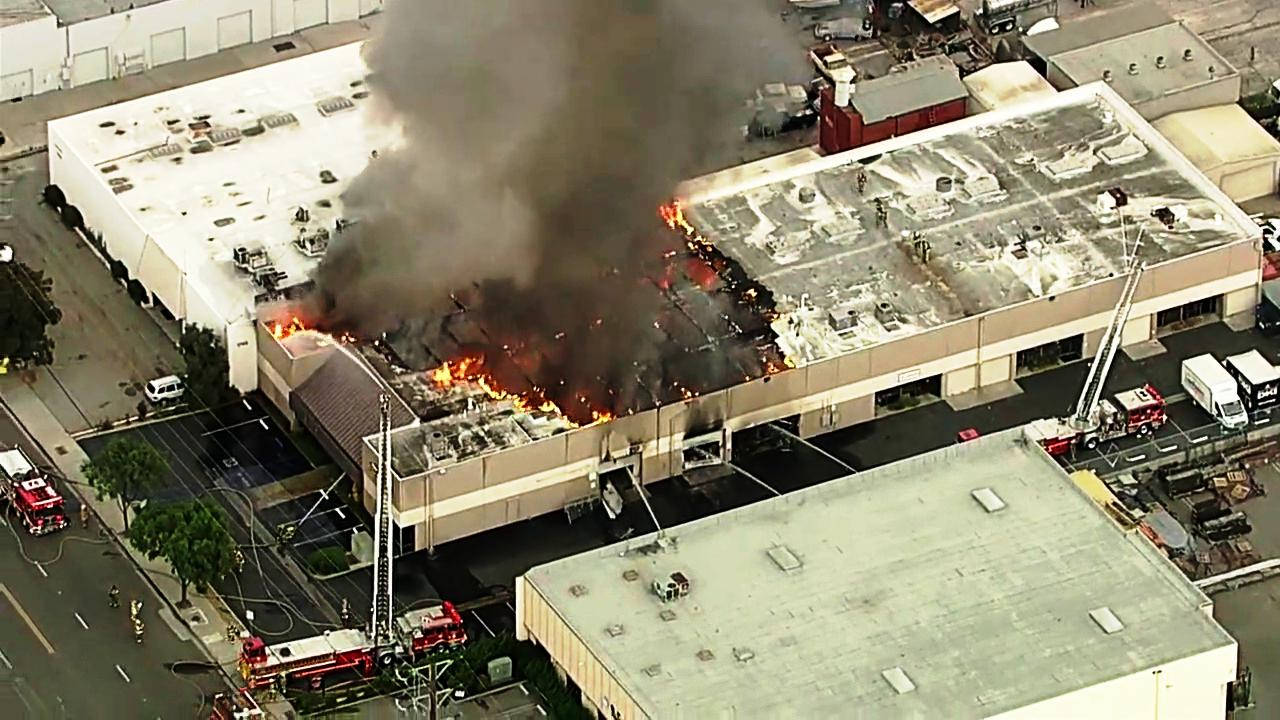smoke: (385, 0, 659, 337)
